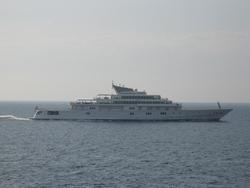yacht: (30, 80, 233, 120)
